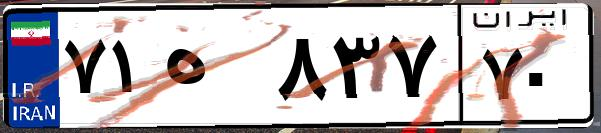0: (525, 38, 570, 115)
1: (110, 28, 158, 98)
3: (330, 28, 385, 110)
7: (385, 28, 445, 110), (57, 26, 110, 100), (475, 38, 525, 113)
8: (270, 28, 330, 110)
ه: (158, 20, 270, 120)
